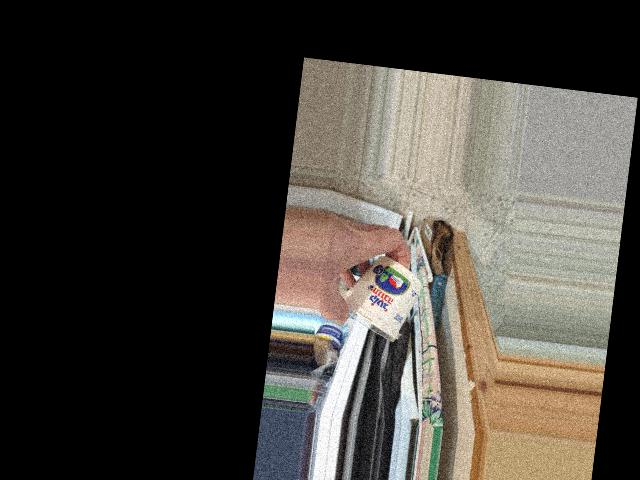cotage: (342, 256, 423, 346)
